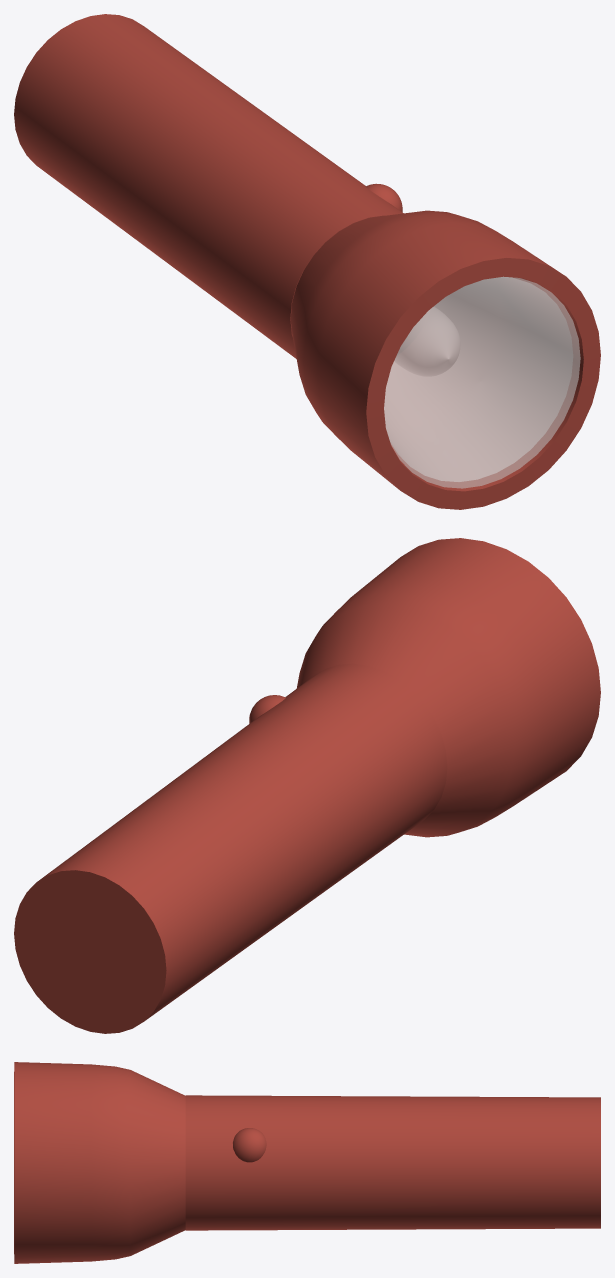
The model's file is flashlight.glb.
3 renders of one model, top to bottom at view 1: azimuth 30°, elevation 25°; view 2: azimuth 150°, elevation 25°; view 3: azimuth 270°, elevation 25°, orthographic. The views are drawn at different scales.
Parts seen in each view (by area): view 1: r0001.67962, r0000.67316, r0002.86002, r0003.45300, r0005.87178; view 2: r0000.67316, r0001.67962; view 3: r0000.67316, r0001.67962, p0006.13617.
Boxes of the visible parts, x1,y1,x2,y2 form: r0001.67962: (290, 210, 600, 509); r0000.67316: (14, 14, 430, 358); r0002.86002: (384, 276, 580, 488); r0003.45300: (384, 277, 572, 481); r0005.87178: (394, 307, 460, 376); r0000.67316: (14, 663, 447, 1033); r0001.67962: (296, 538, 600, 837); r0000.67316: (185, 1095, 600, 1230); r0001.67962: (14, 1062, 185, 1263); p0006.13617: (233, 1128, 266, 1162).
Bounding box in the file's own units: 0.208 × 0.208 × 0.6041.
